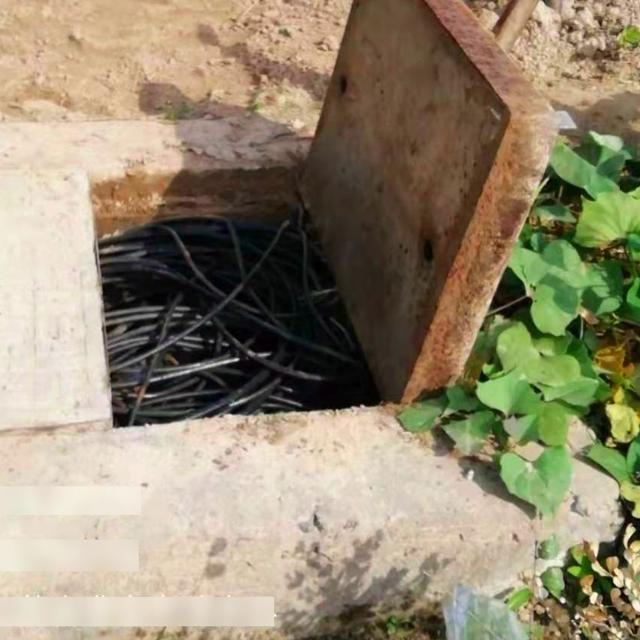uncovered: (0, 0, 584, 446)
